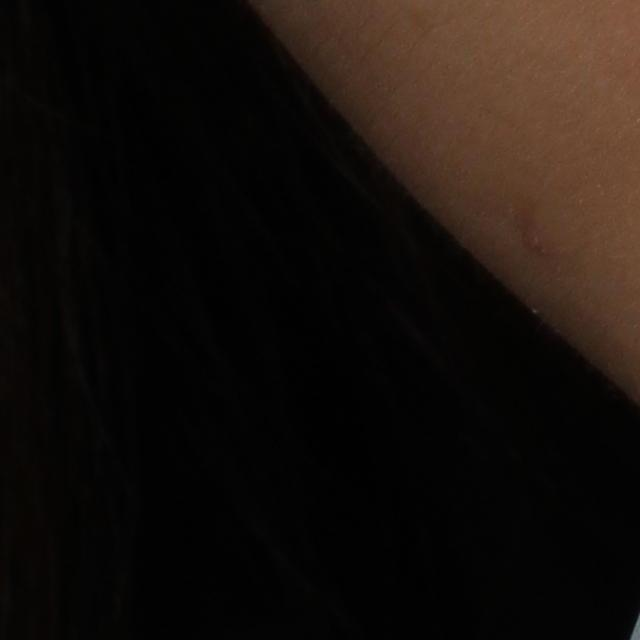papule: (523, 220, 550, 254)
